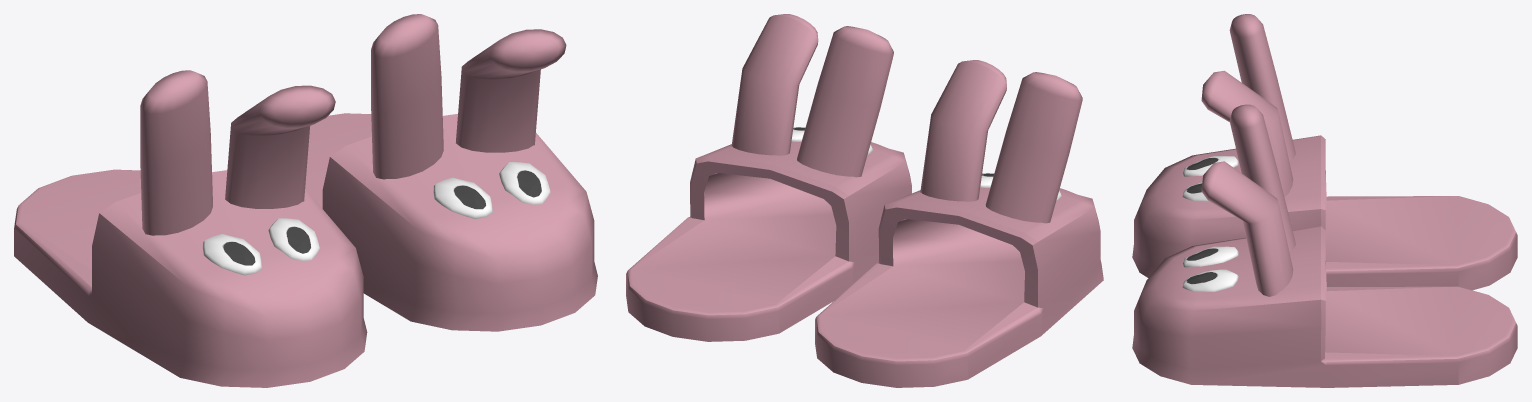
File: Sloffen.fbx
3 renders of one model, left to right at view 1: azimuth 30°, elevation 25°; view 2: azimuth 150°, elevation 25°; view 3: azimuth 270°, elevation 25°, orthographic. The views are drawn at different scales.
Visible parts, largest first — view 1: Slof, Slof1; view 2: Slof, Slof1; view 3: Slof1, Slof.
Part boxes in pixels (x1,y1,x2,y2): Slof: (14,70,367,387); Slof1: (305,14,597,331); Slof: (815,60,1103,387); Slof1: (626,14,911,341); Slof1: (1132,104,1517,387); Slof: (1132,14,1517,290).
Size of the model in its own units: 30.87 by 18.58 by 29.54.
1 material, 1 textured.
